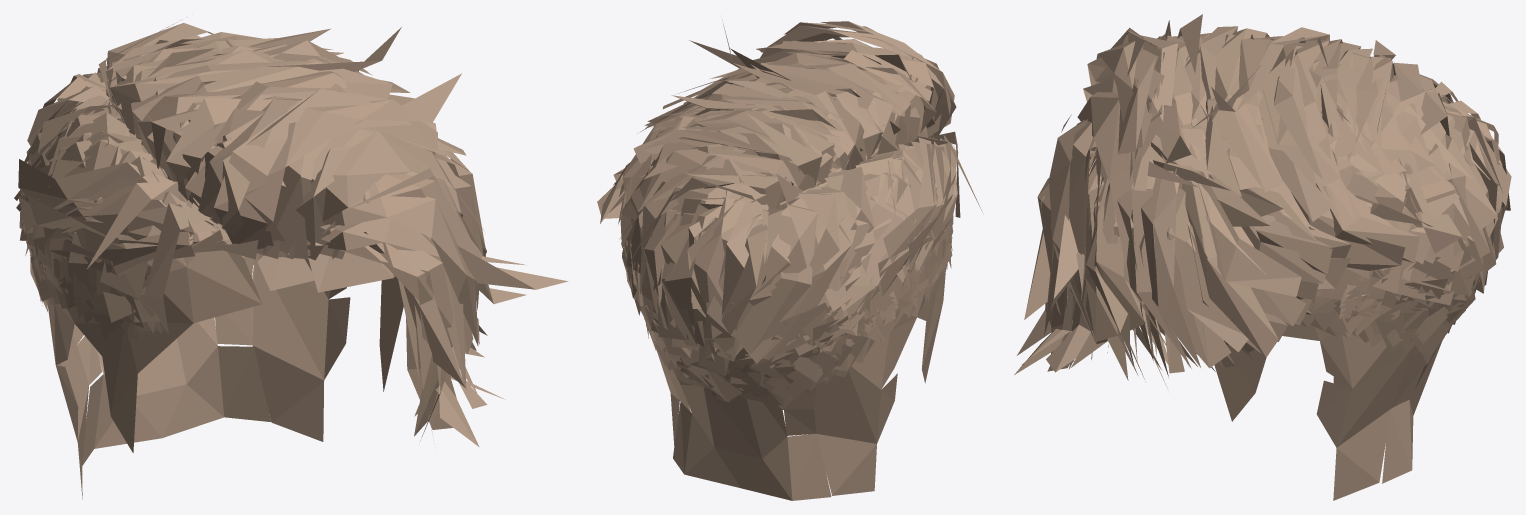
The model's file is male_hair_05_lod1.glb.
3 renders of one model, left to right at view 1: azimuth 30°, elevation 25°; view 2: azimuth 150°, elevation 25°; view 3: azimuth 270°, elevation 25°, orthographic. The views are drawn at different scales.
Visible parts, largest first — view 1: hair_05; view 2: hair_05; view 3: hair_05.
Boxes of the visible parts, x1=… form: hair_05: x1=14, y1=17, x2=568, y2=499; hair_05: x1=597, y1=20, x2=983, y2=500; hair_05: x1=1014, y1=14, x2=1511, y2=500.
Size of the model in its own units: 0.1871 by 0.2069 by 0.2226.
